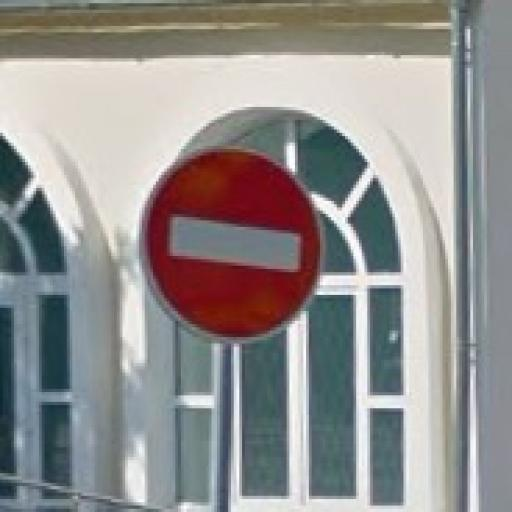traffic_sign: (138, 144, 327, 345)
